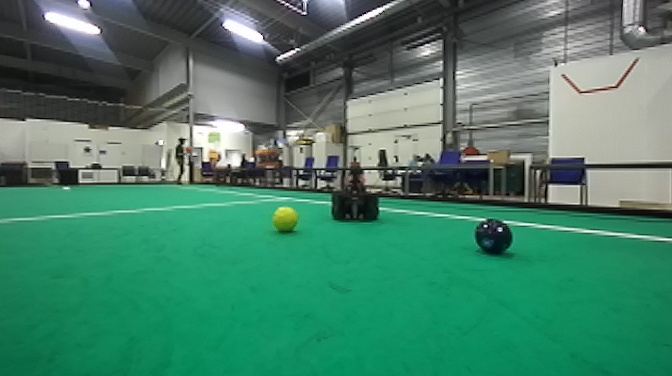ball: (474, 213, 516, 257), (269, 203, 303, 235)
robot: (324, 138, 384, 227)
